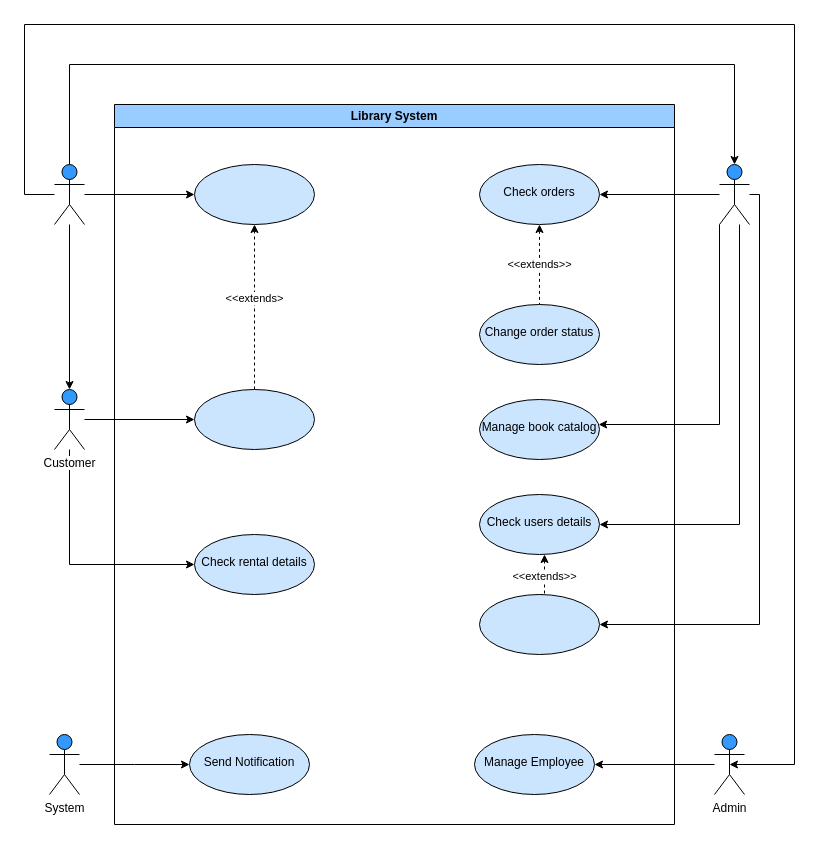
Image size: 820x842. Some labels were removed from this diagram. Each missing label, with the box of its shape:
Borrow book at the library: (478, 594, 600, 654)
Browse book catalog: (194, 164, 314, 224)
Librarian: (718, 164, 750, 224)
Request book borrowing: (194, 388, 314, 450)
User: (54, 164, 84, 224)
